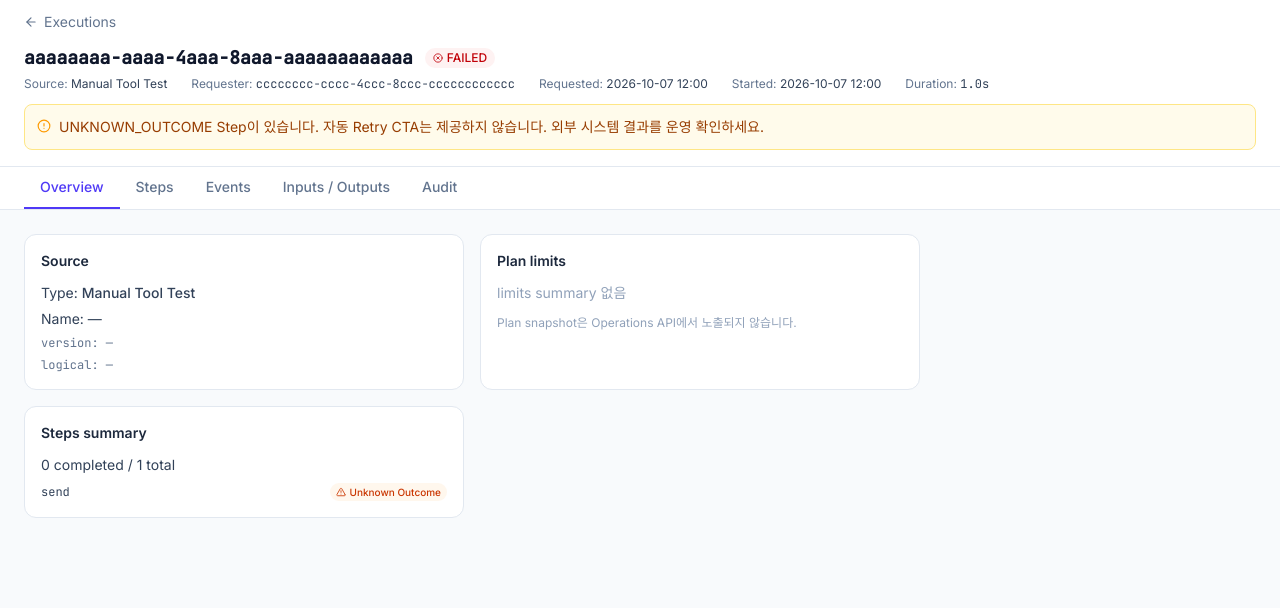
Test case: ExecutionDetail MRTR / UNKNOWN_OUTCOME (API-backed) › UNKNOWN_OUTCOME shows ops guidance and hides Retry CTA
The width and height of the screenshot is (1280, 608).
Check: the text "자동 Retry CTA는 제공하지 않습니다" is shown, box x1=59 y1=118 x2=764 y2=135
What coordinates should you click on to do the following:
click the button "Steps"
I would click on:
 (155, 188)
Its box is x1=120 y1=167 x2=190 y2=209.
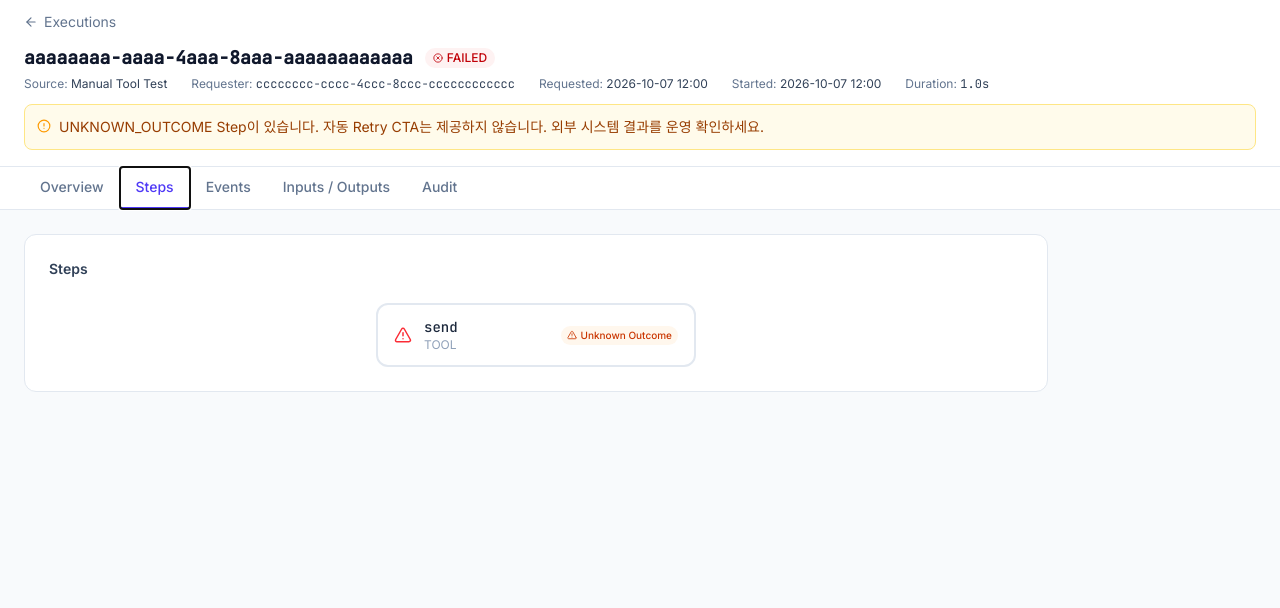
What coordinates should you click on to do the following:
click the text "send"
I would click on:
 (441, 327)
Its box is x1=424 y1=318 x2=458 y2=336.
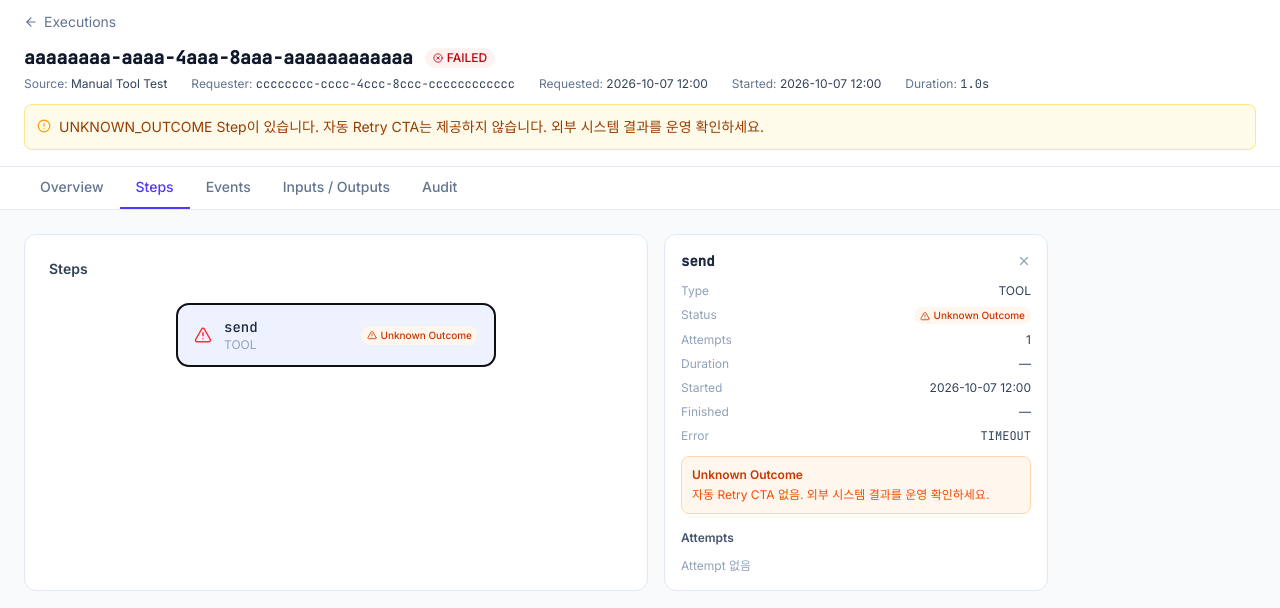
Check: the text "자동 Retry CTA 없음. 외부 시스템 결과를 운영 확인하세요." is shown, box x1=692 y1=487 x2=1020 y2=503
